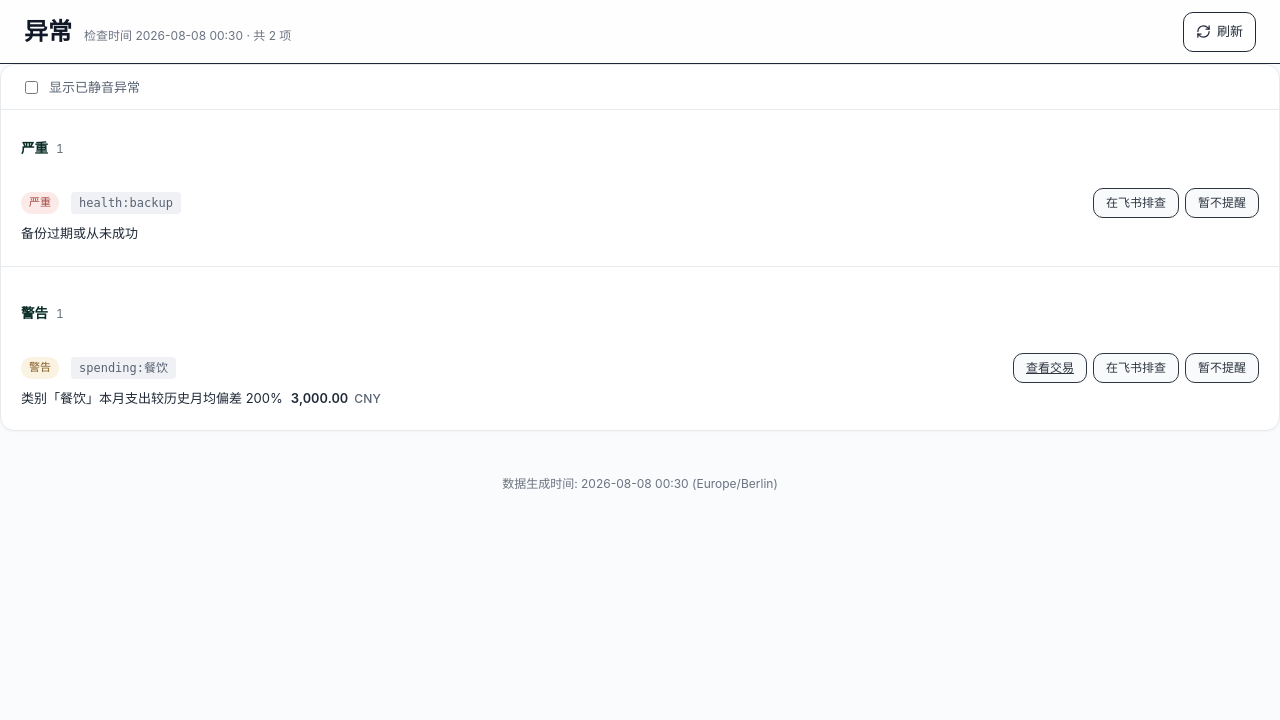
AlertsPage › 点击「暂不提醒」→「7 天」后该异常从列表隐藏并写入 localStorage
Check: the element with class "anomaly-list" is shown, box top-left (0, 64), bottom-right (1279, 431)
Click the button "暂不提醒" in the row of "查看交易": (1222, 368) top-left (1185, 353), bottom-right (1259, 383)
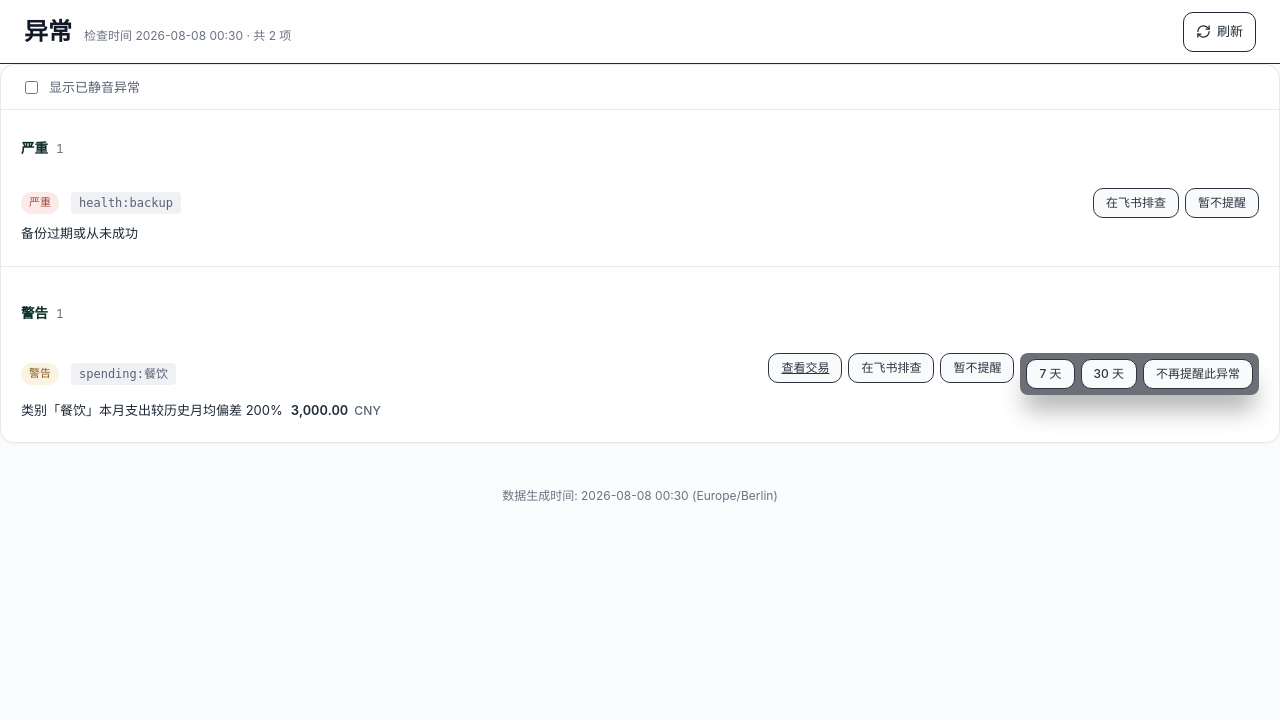
Click the menu item "7 天": (1050, 374) top-left (1026, 359), bottom-right (1074, 389)
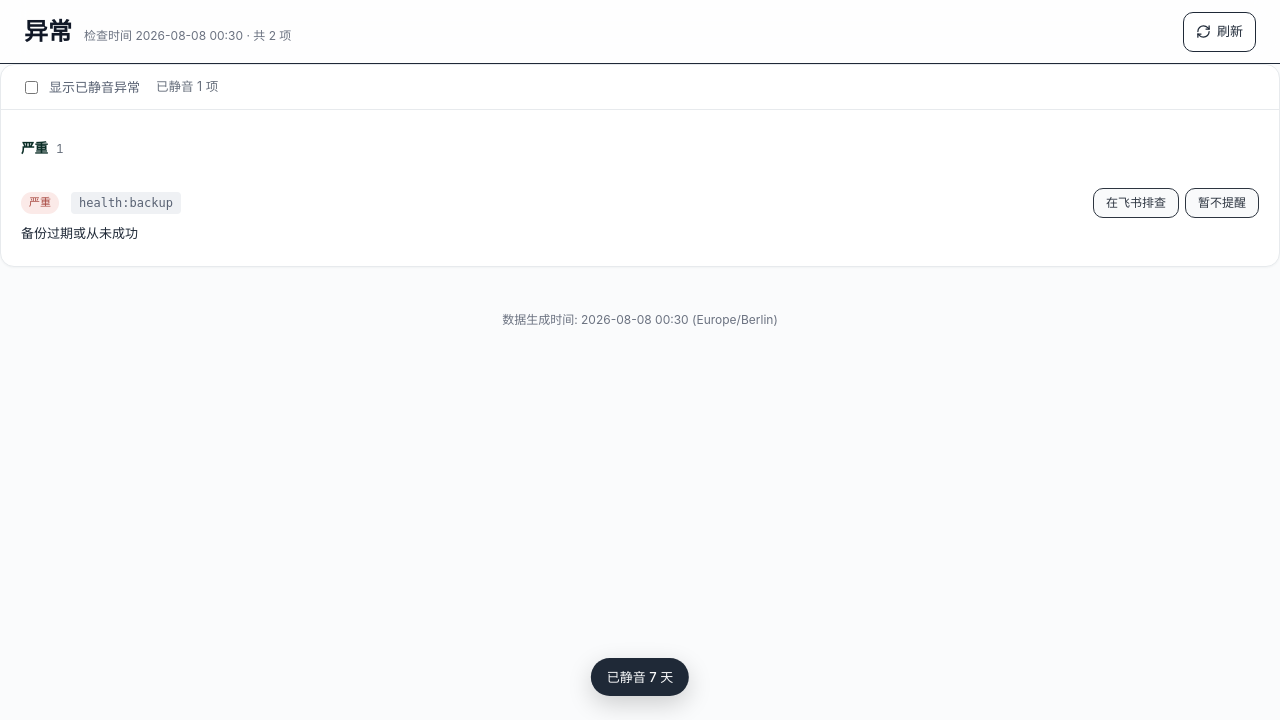
Check: the text "类别「餐饮」" is gone
Check: the list "警告异常" is gone
Check: the text "已静音 7 天" is shown, box top-left (591, 658), bottom-right (689, 696)
